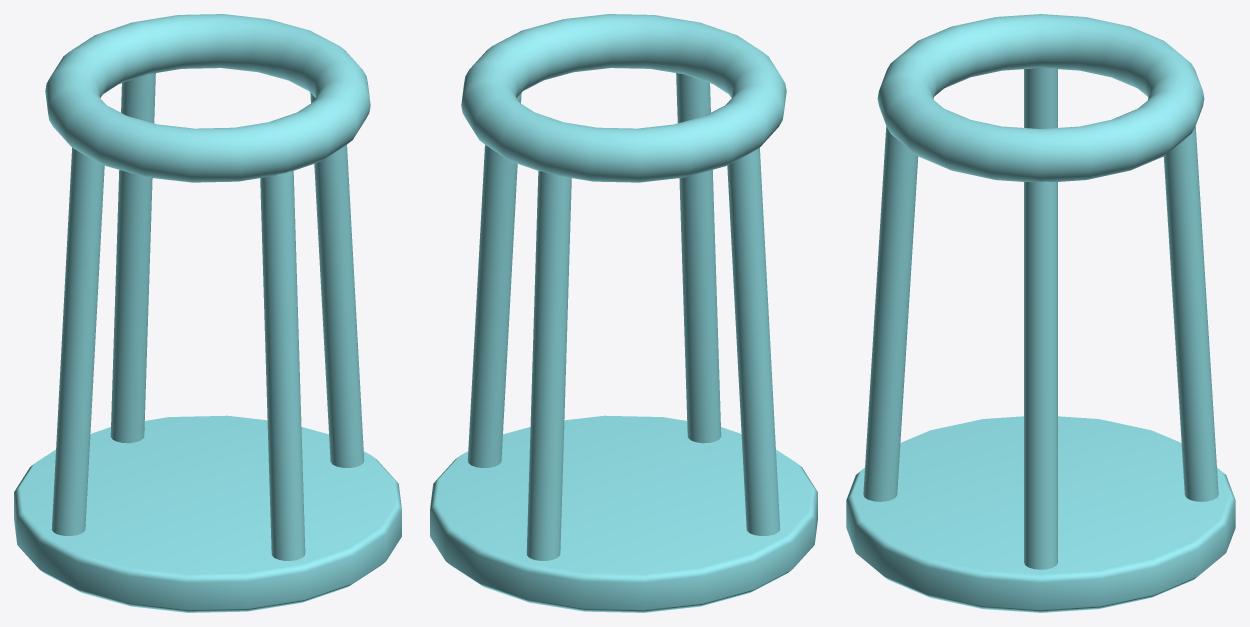
File: Store_4_Ice_Cream_Stand_1.glb
The picture shows the model from 3 angles, left to right: view 1: azimuth 30°, elevation 25°; view 2: azimuth 150°, elevation 25°; view 3: azimuth 270°, elevation 25°; orthographic projection.
Parts seen in each view (by area): view 1: Store_4_Ice_Cream_Stand_1; view 2: Store_4_Ice_Cream_Stand_1; view 3: Store_4_Ice_Cream_Stand_1.
Part boxes in pixels (x1,y1,x2,y2): Store_4_Ice_Cream_Stand_1: (14,14,401,612); Store_4_Ice_Cream_Stand_1: (430,14,817,612); Store_4_Ice_Cream_Stand_1: (846,14,1235,612).
Bounding box in the file's own units: 0.1706 × 0.2221 × 0.1707.
Materials: 1 (1 with a texture image).
